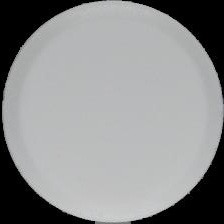0615-3570: (0, 0, 224, 224)
